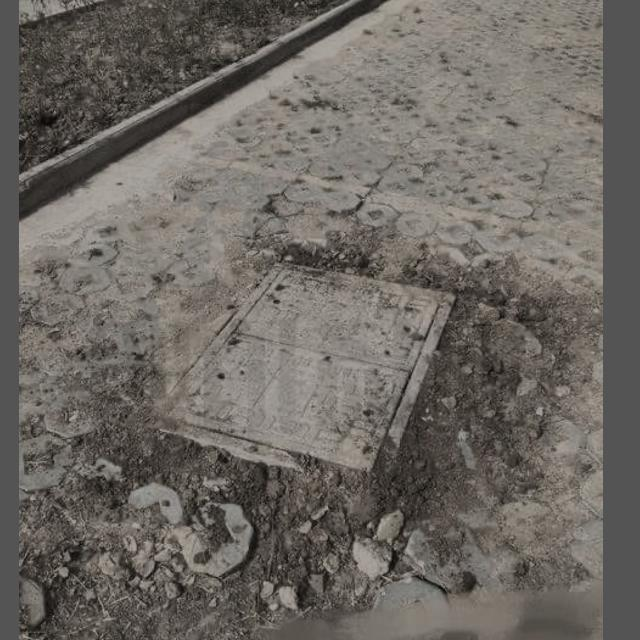circle: (127, 256, 483, 512)
